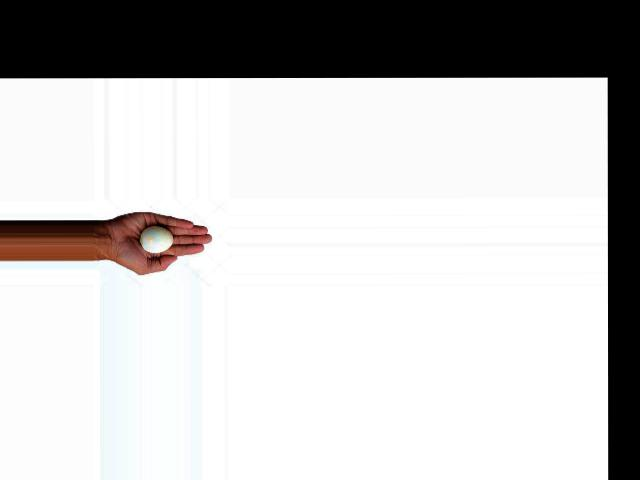egg: (140, 226, 174, 252)
